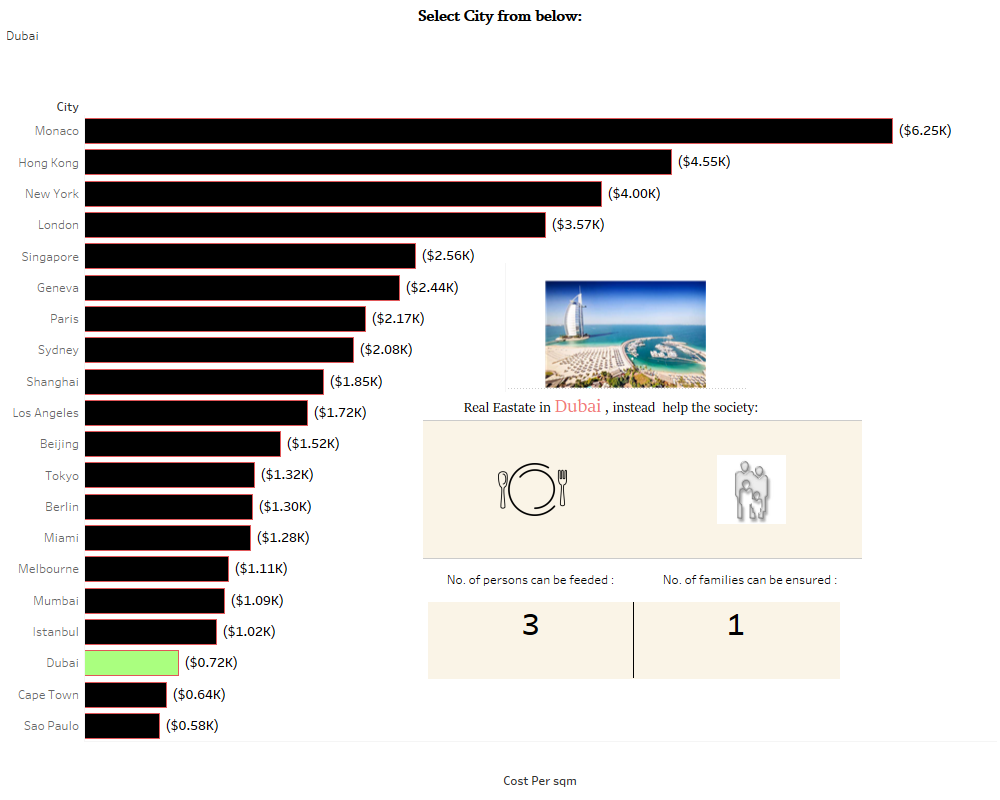

What the dashboard file says about the page in this screenshot:
{"tool":"tableau","page":{"name":"Dashboard 1","canvas":[1000,800],"ordinal":0},"visuals":[{"type":"parameter","param":"[Parameters].[Parameter 1]","box":[0,0,1000,91]},{"type":"worksheet","title":"Comparison Bar","mark":"Automatic","rows":["City"],"cols":["Calculation_69524322564366336"],"box":[0,91,1000,709]},{"type":"worksheet","title":"City view","mark":"Automatic","rows":["Calculation_620370852351987713"],"cols":["Calculation_620370852351913984"],"box":[505,263,242,128]},{"type":"text","box":[461,392,348,30]},{"type":"worksheet","title":"ImageIcons","mark":"Shape","box":[423,420,439,139]},{"type":"text","box":[444,564,178,30]},{"type":"text","box":[660,564,181,30]},{"type":"worksheet","title":"Value for Money","mark":"Text","box":[428,602,411,76]}]}

Visuals, with their boxes in screenshot pixels (x1, y1, x2, y2), scaled from the page's 1000x800 canvas onto the 1000x800 screenshot:
parameter: BBox(0, 0, 999, 91)
"Comparison Bar" worksheet: BBox(0, 91, 999, 799)
"City view" worksheet: BBox(505, 263, 747, 391)
text: BBox(461, 392, 809, 422)
"ImageIcons" worksheet (Shape marks): BBox(423, 420, 862, 559)
text: BBox(444, 564, 622, 594)
text: BBox(660, 564, 841, 594)
"Value for Money" worksheet (Text marks): BBox(428, 602, 839, 678)
